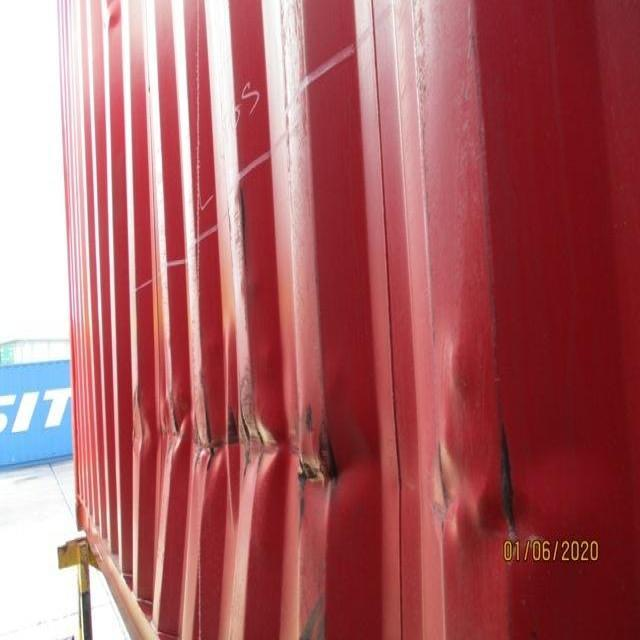Dent: (113, 329, 560, 603)
